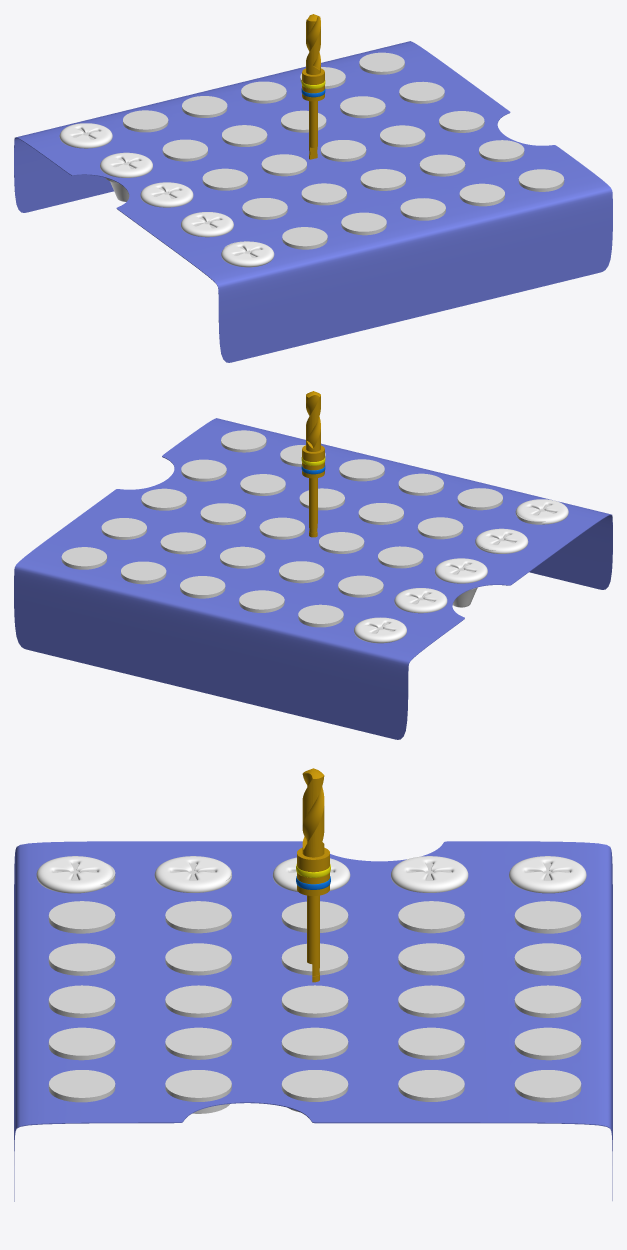
3 renders of one model, top to bottom at view 1: azimuth 30°, elevation 25°; view 2: azimuth 150°, elevation 25°; view 3: azimuth 270°, elevation 25°, orthographic. The views are drawn at different scales.
Parts seen in each view (by area): view 1: Plane, Cylinder.002, Cylinder.004, Cube, Cylinder; view 2: Plane, Cylinder.002, Cylinder.004, Cube, Cylinder; view 3: Plane, Cylinder.002, Cylinder.004, Cube, Cylinder.
Part boxes in pixels (box(x1,y1,x2,y2)): Plane: box(14, 41, 612, 362); Cylinder.002: box(73, 52, 564, 257); Cylinder.004: box(59, 123, 274, 267); Cube: box(302, 14, 324, 84); Cylinder: box(302, 82, 324, 159); Plane: box(14, 418, 612, 739); Cylinder.002: box(61, 430, 555, 633); Cylinder.004: box(354, 499, 568, 643); Cube: box(302, 391, 324, 461); Cylinder: box(302, 459, 324, 537); Plane: box(14, 841, 612, 1201); Cylinder.002: box(48, 863, 581, 1113); Cylinder.004: box(36, 856, 586, 893); Cube: box(297, 768, 329, 871); Cylinder: box(297, 868, 329, 982).
Size of the model in its own units: 0.1 by 0.0554 by 0.09.
